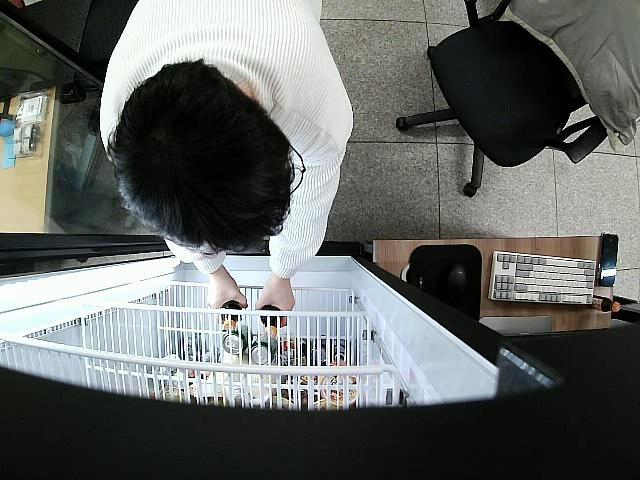17_vita500: (259, 304, 283, 337), (220, 302, 242, 330)
